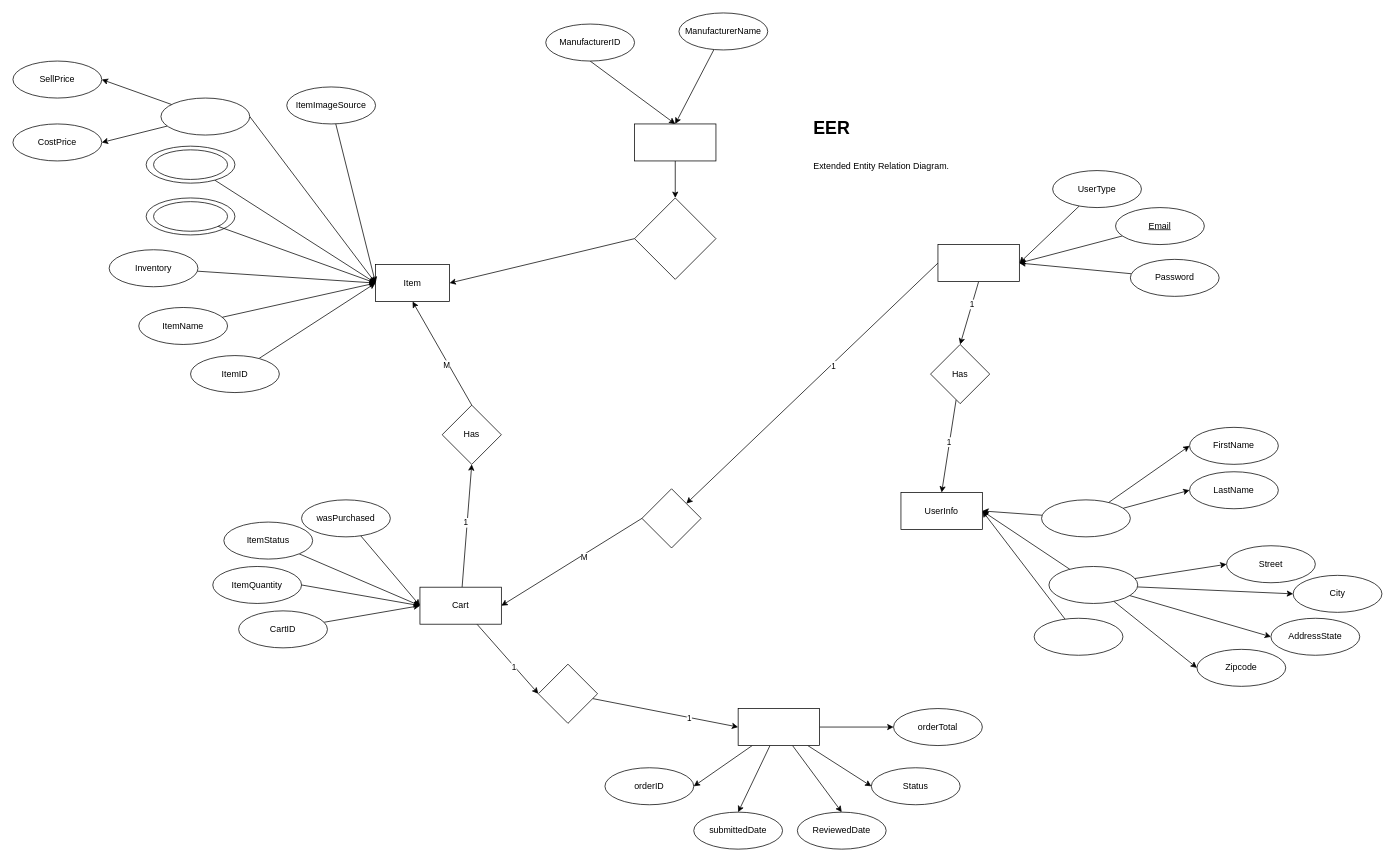
The diagram is 1395 pixels wide and 862 high, and some of its shapes have lost their labels. The shapes that lost their labels are listed below. From the top down, each one's centre as x and y in pixels, then its label:
At point (205, 116): "ItemPrice".
At point (675, 142): "Manufacturer".
At point (190, 164): "SubCategory".
At point (190, 216): "Category".
At point (675, 238): "Manufactures".
At point (978, 263): "User".
At point (671, 518): "Can Have".
At point (1085, 518): "Name".
At point (1093, 584): "Address".
At point (1078, 636): "PhoneNumber".
At point (568, 693): "Once Purchase is Place".
At point (778, 727): "Order".
